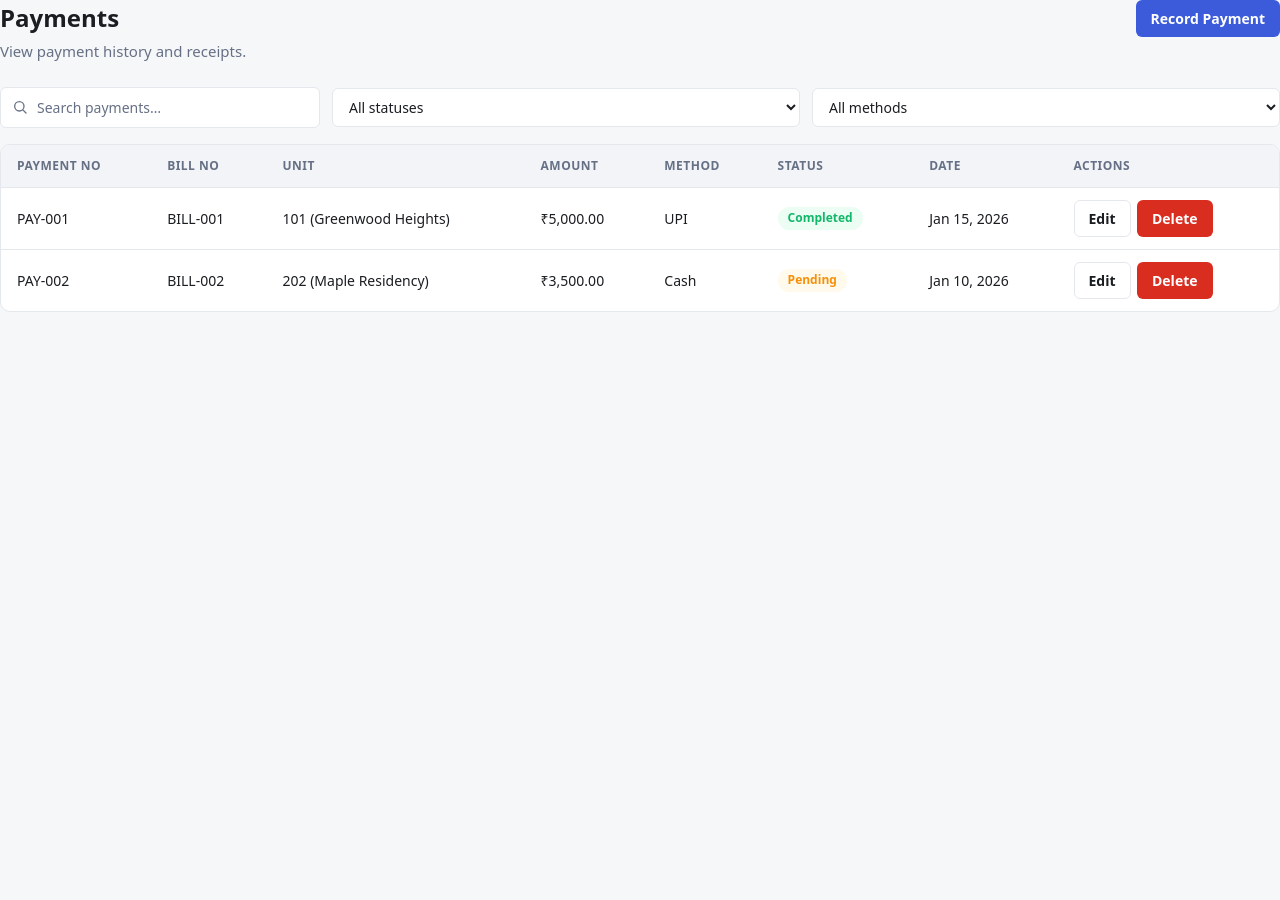
Test case: PaymentsPage CRUD functionality › opens edit modal with read-only fields
Expected: the text "PAY-001" is shown, [1,187,151,249]
Click the button "Edit" in the row of "PAY-001": (1102, 218) [1074,200,1131,236]
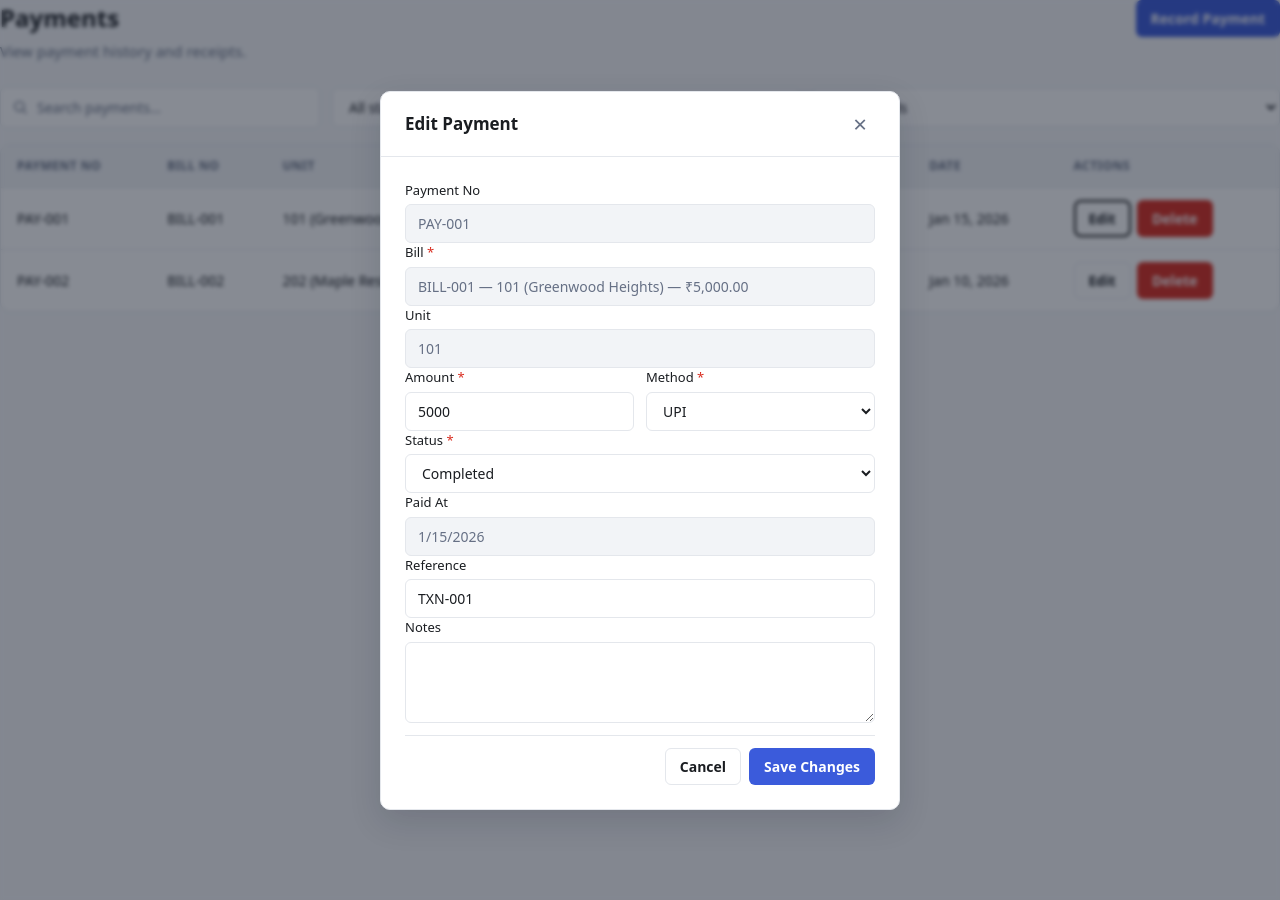
Now the field labelled "Payment No" is disabled, box [405,204,875,243]
Now the field labelled "Bill *" is disabled, box [405,266,875,306]
